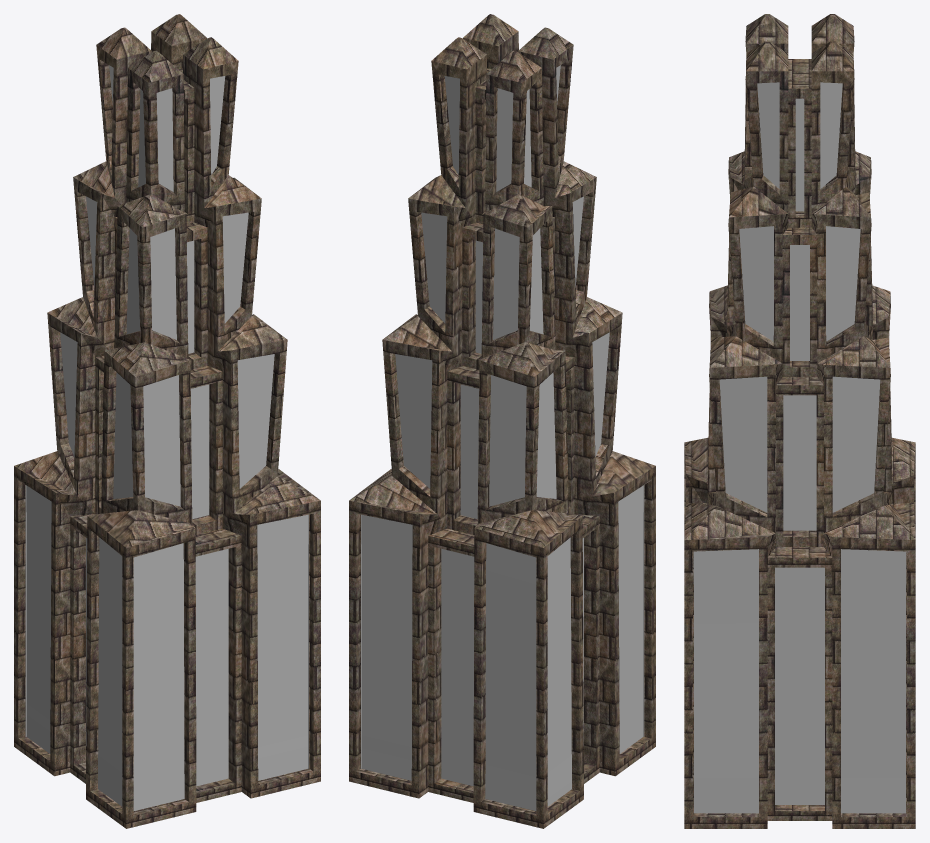
Rendered from ALIEN_TOWER_Opening.fbx.
The picture shows the model from 3 angles, left to right: view 1: azimuth 30°, elevation 25°; view 2: azimuth 150°, elevation 25°; view 3: azimuth 270°, elevation 25°; orthographic projection. The views are drawn at different scales.
Parts seen in each view (by area): view 1: TOWER; view 2: TOWER; view 3: TOWER.
Part boxes in pixels (<box>): TOWER: <box>14,14,320,828</box>; TOWER: <box>349,14,655,828</box>; TOWER: <box>684,14,915,828</box>.
Bounding box in the file's own units: 2386 × 8554 × 2386.
